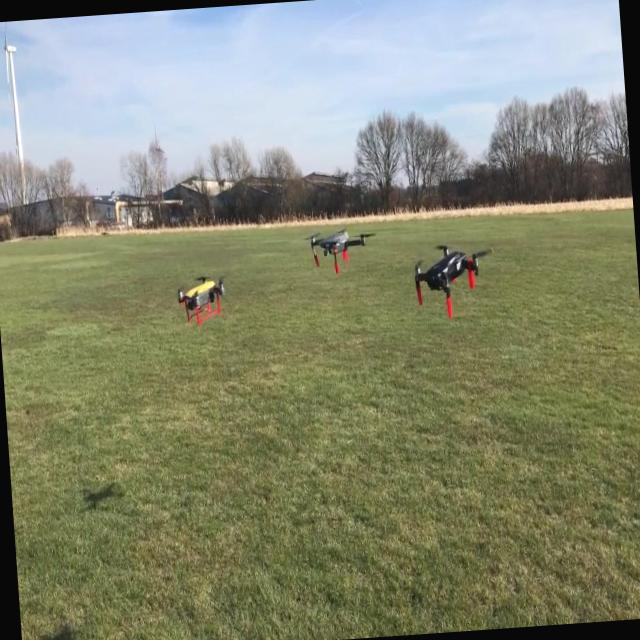drone: (406, 239, 491, 325), (307, 222, 374, 276), (173, 268, 230, 330)
